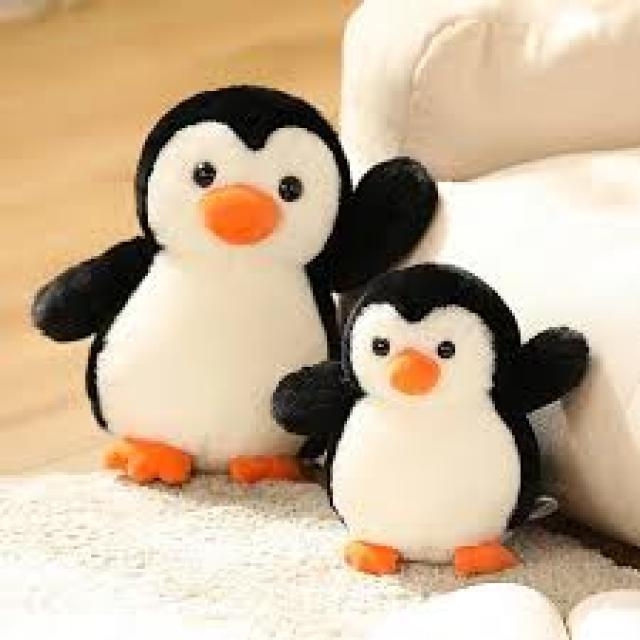soft-toy: (34, 86, 439, 471), (272, 265, 590, 562)
